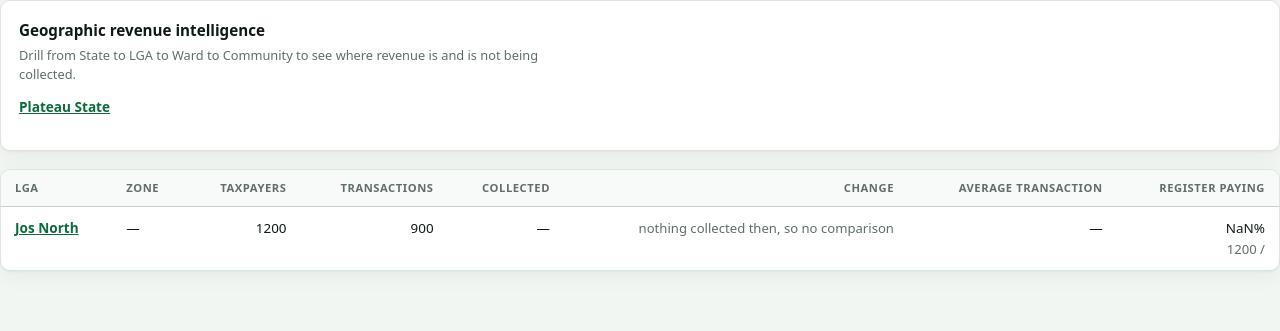
Scenario: a drill-down that hits a failure › offers a way to ask again without moving
This screenshot has width=1280, height=331.
Click the button "Jos North" at (47, 229), box [15,218,79,239]
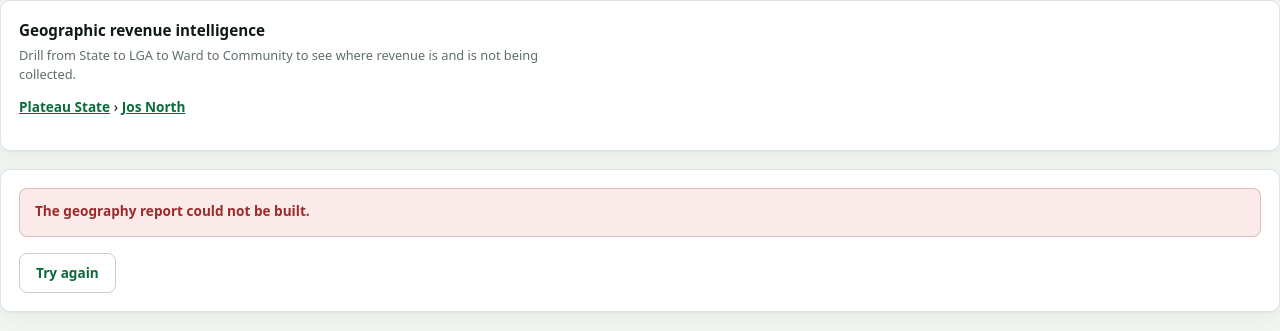
Result: the text "The geography report could not be built." is shown at [35,201,310,220]
Click the button "Try again" at (67, 273), box [19,253,116,293]
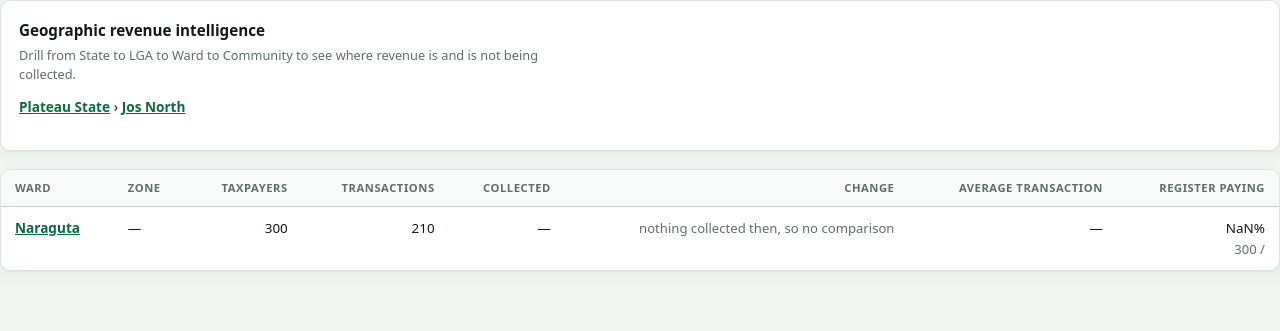
Result: the button "Naraguta" is shown at [15,218,80,239]
